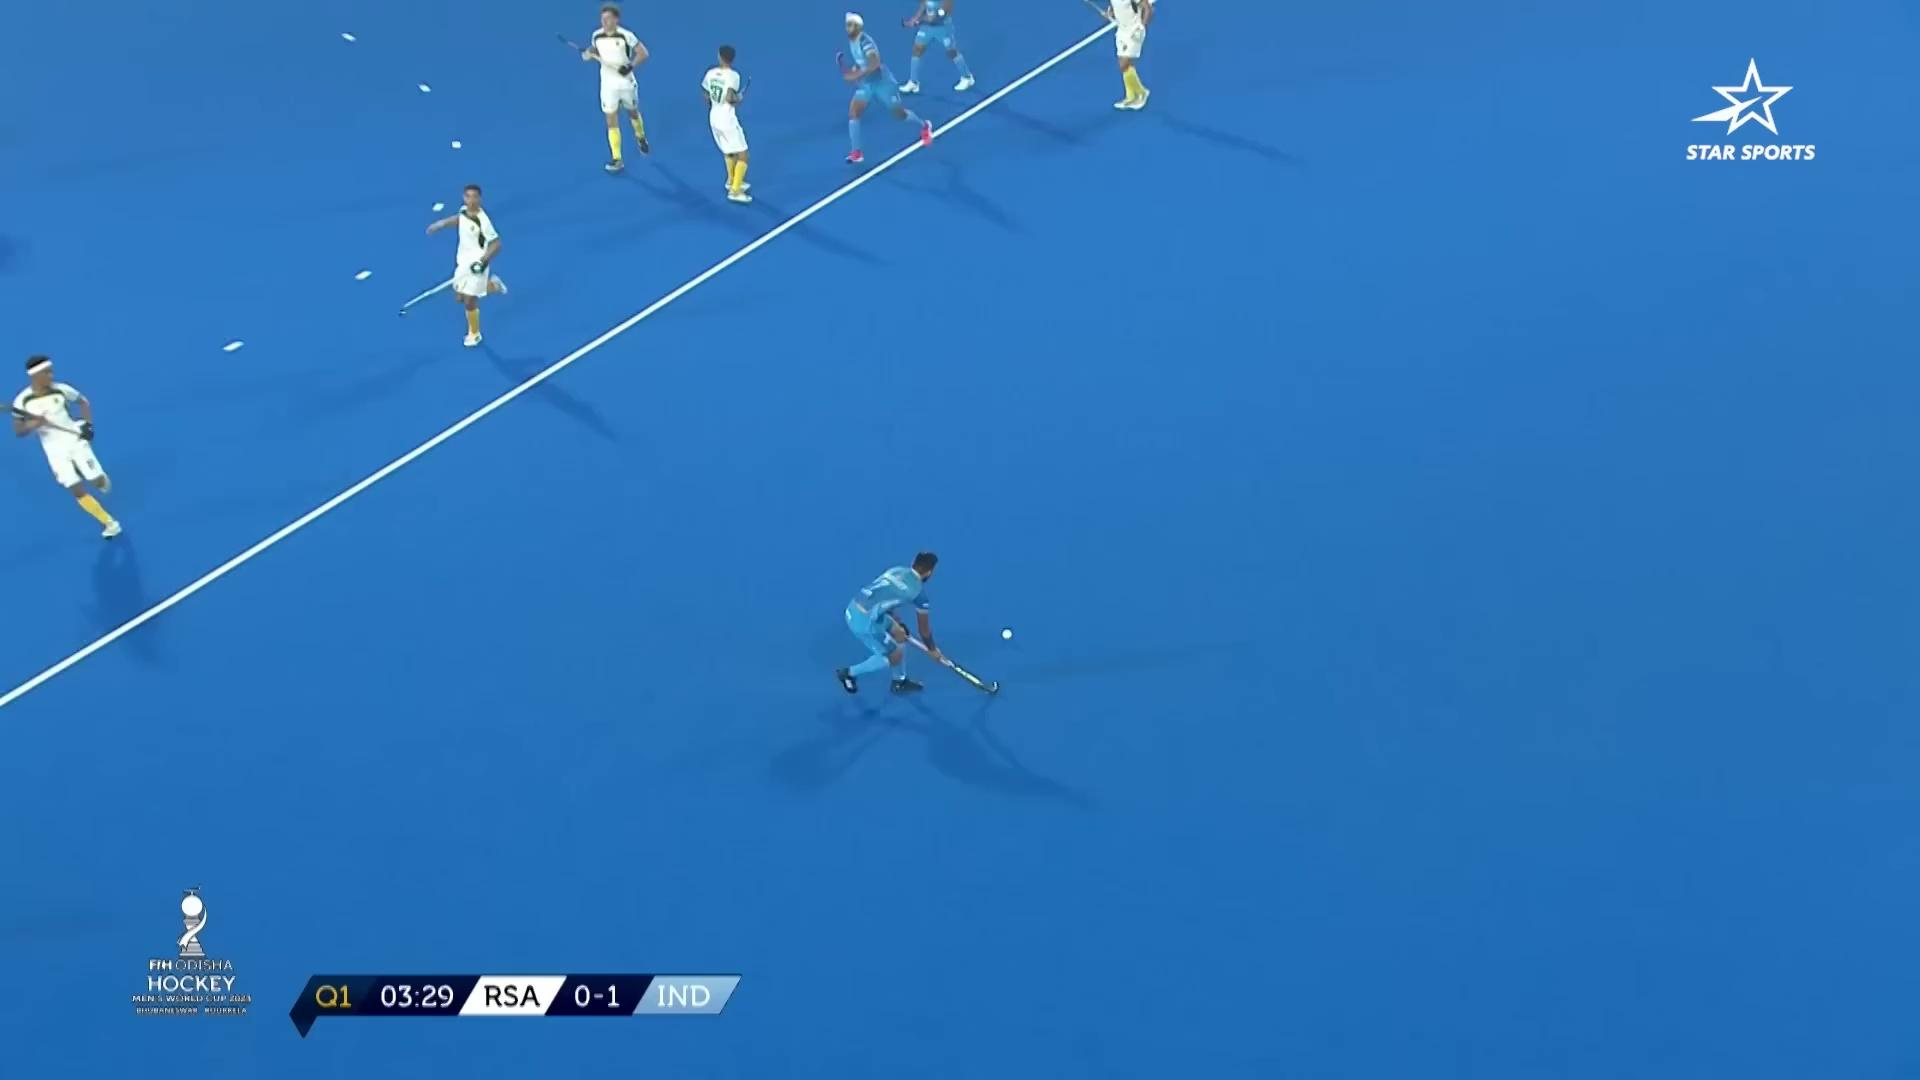ball: (988, 615, 1034, 654)
